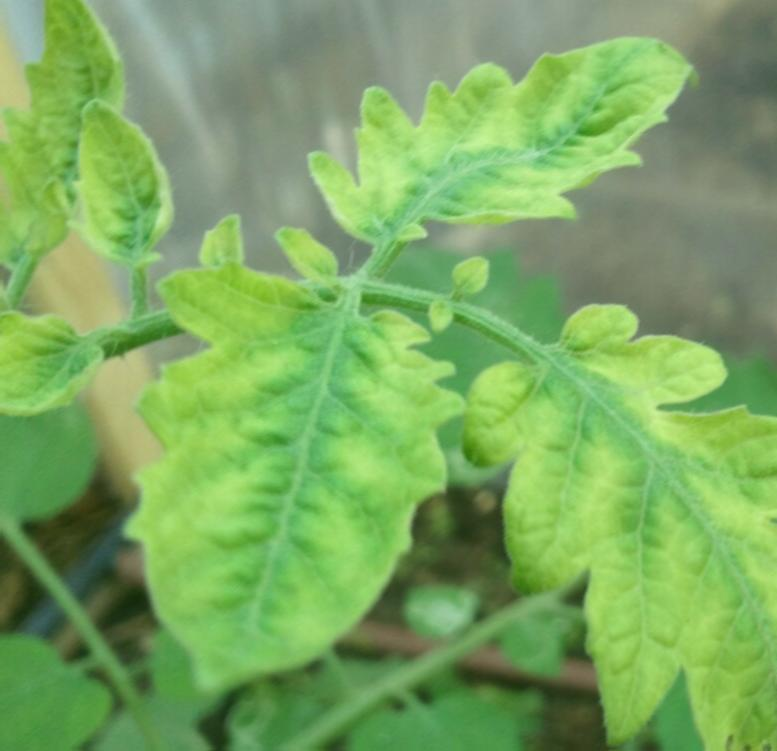Tomato leaf yellow virus: (110, 283, 442, 751), (465, 295, 777, 751), (317, 17, 750, 266), (0, 0, 137, 257), (80, 92, 182, 270)
